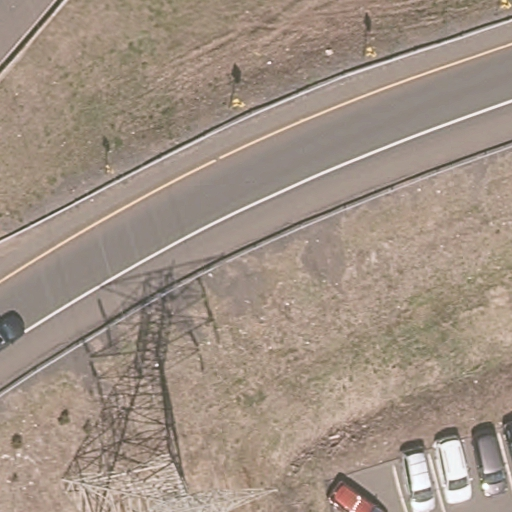TT: (58, 453, 280, 512)
